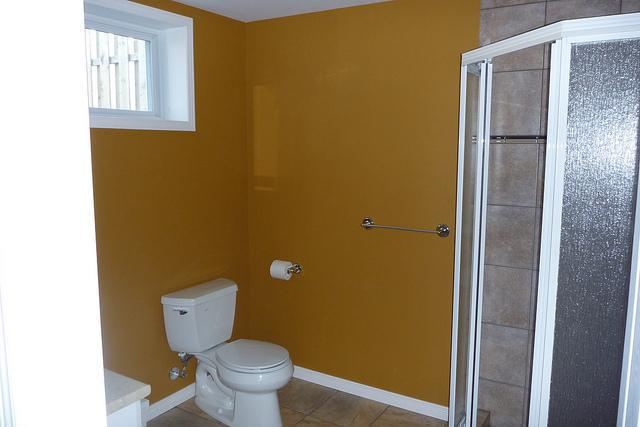Ducha: (460, 13, 639, 426)
Sanitario: (156, 280, 292, 426)
